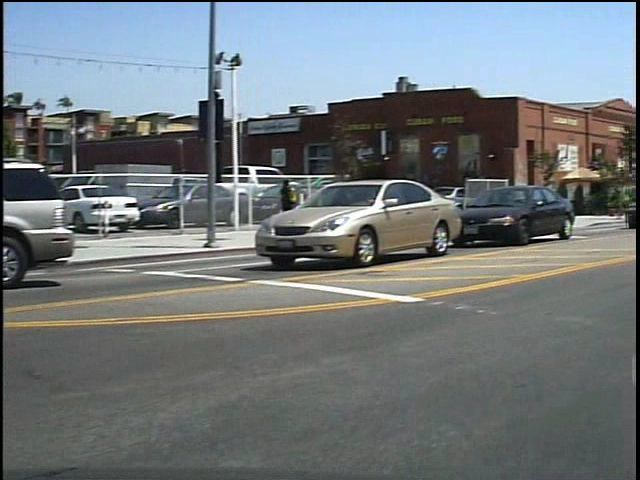person: (284, 173, 309, 235)
